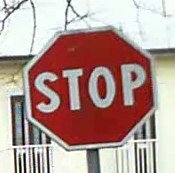stop: (21, 24, 158, 149)
